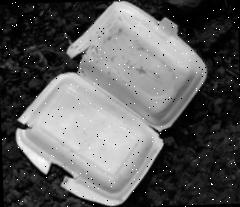general: (9, 0, 211, 207)
